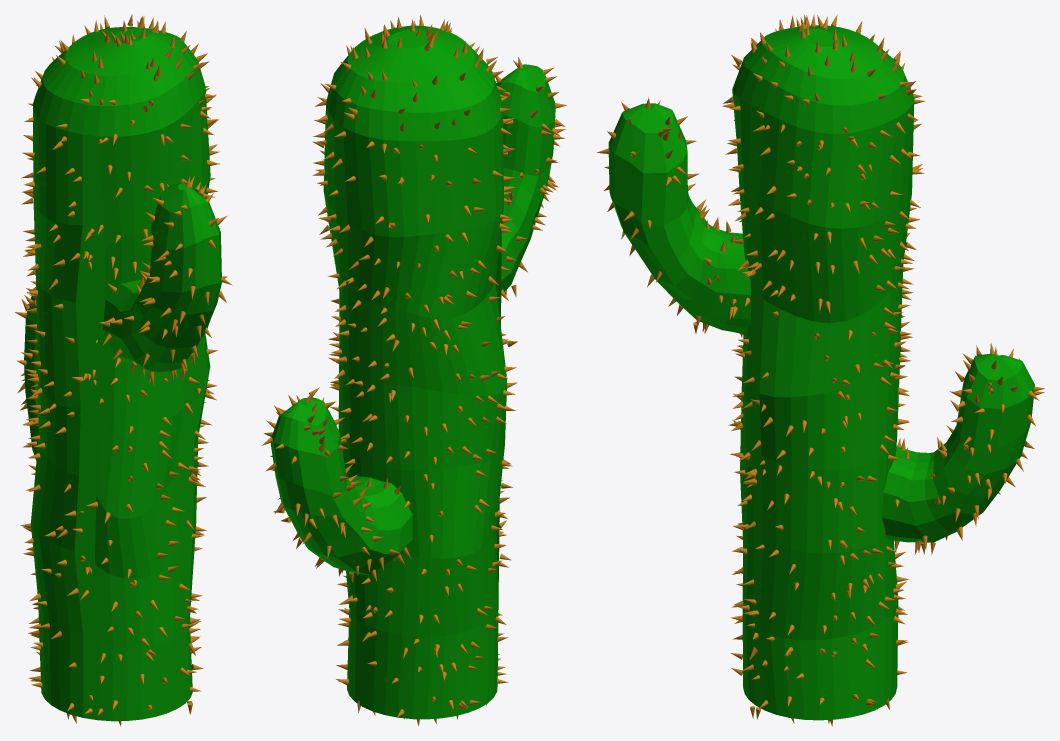
The model's file is M_cactusB.fbx.
3 renders of one model, left to right at view 1: azimuth 30°, elevation 25°; view 2: azimuth 150°, elevation 25°; view 3: azimuth 270°, elevation 25°, orthographic. The views are drawn at different scales.
Visible parts, largest first — view 1: Cylinder.001; view 2: Cylinder.001; view 3: Cylinder.001.
Boxes of the visible parts, bbox=[...] form: Cylinder.001: bbox=[24, 27, 221, 721]; Cylinder.001: bbox=[270, 25, 555, 719]; Cylinder.001: bbox=[608, 25, 1034, 720].
Size of the model in its own units: 205 by 731 by 435.
